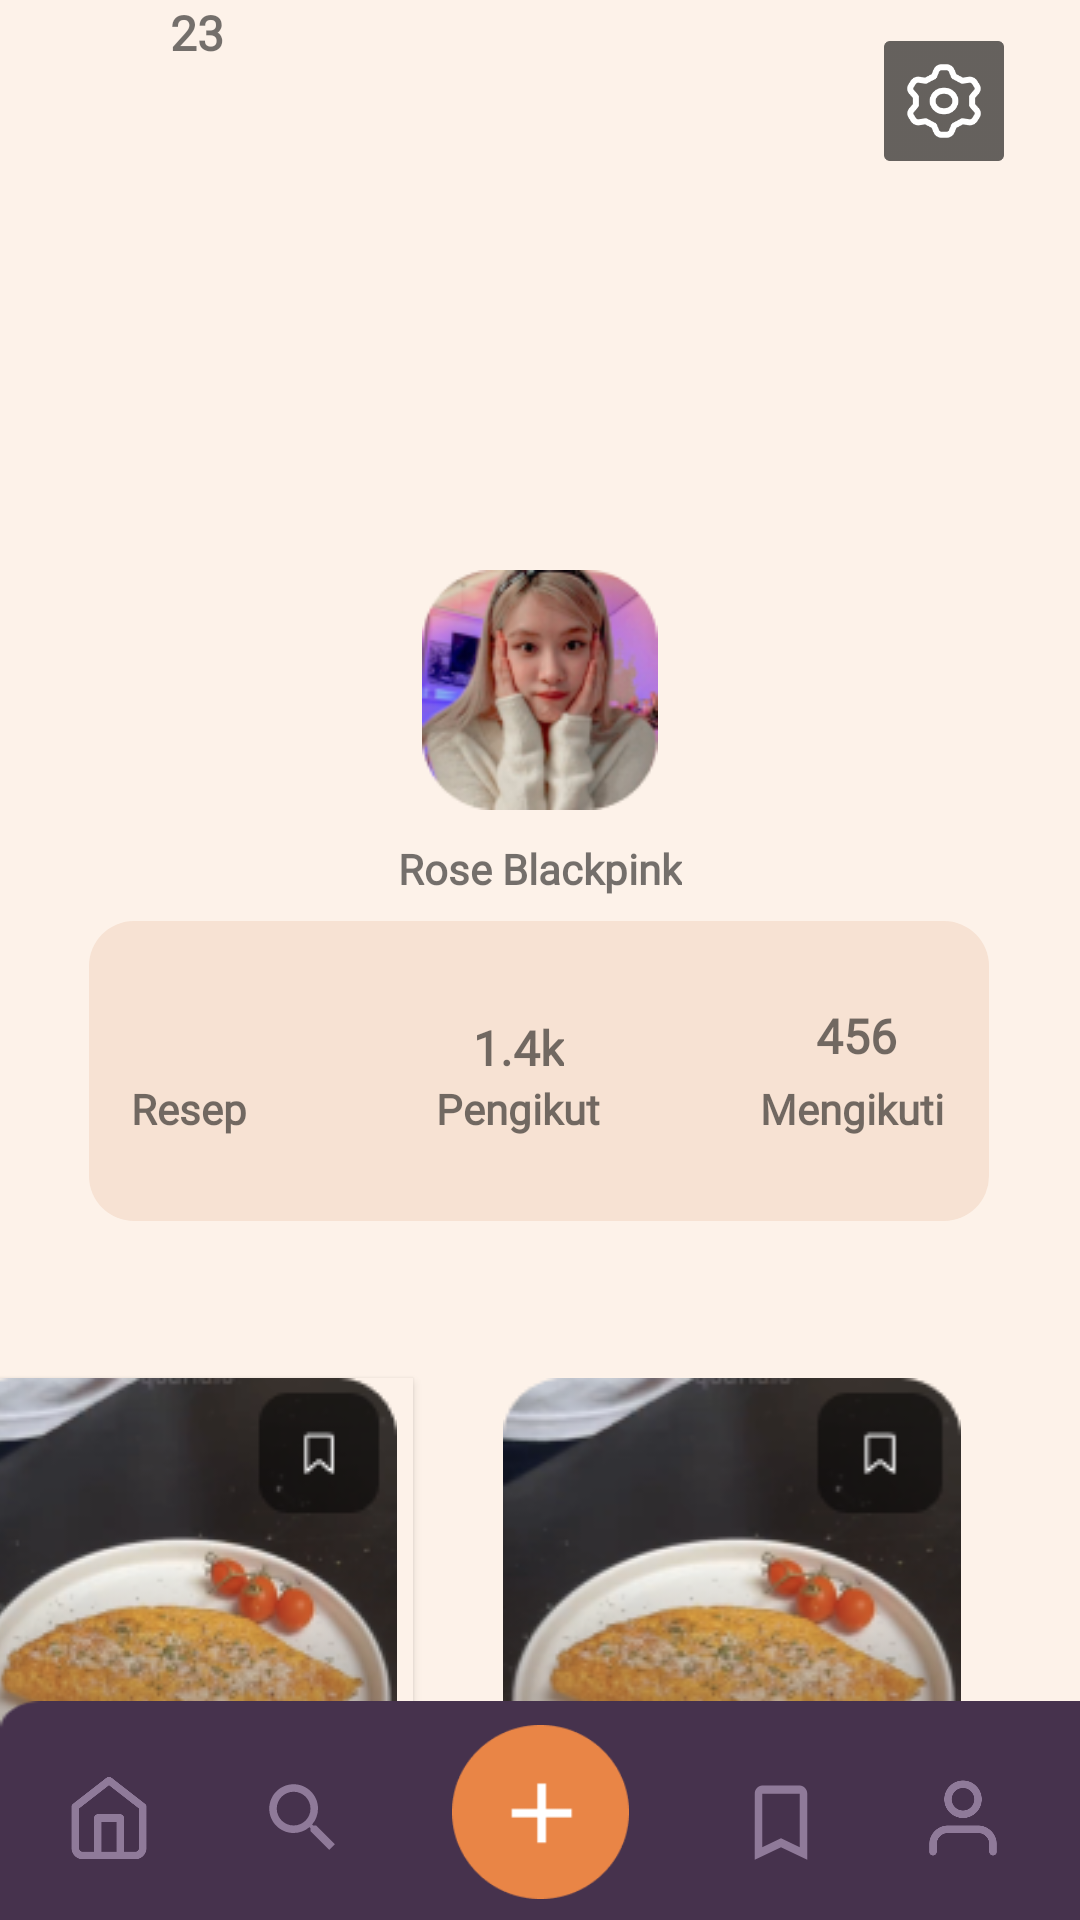

Point at icon controls on the screen. Image size 1080px×1920px, points as point (x, y).
bookmark border: point (781, 1822)
homee: point (109, 1818)
profile: point (540, 690)
search: point (302, 1817)
setting: point (944, 101)
user: point (963, 1818)
